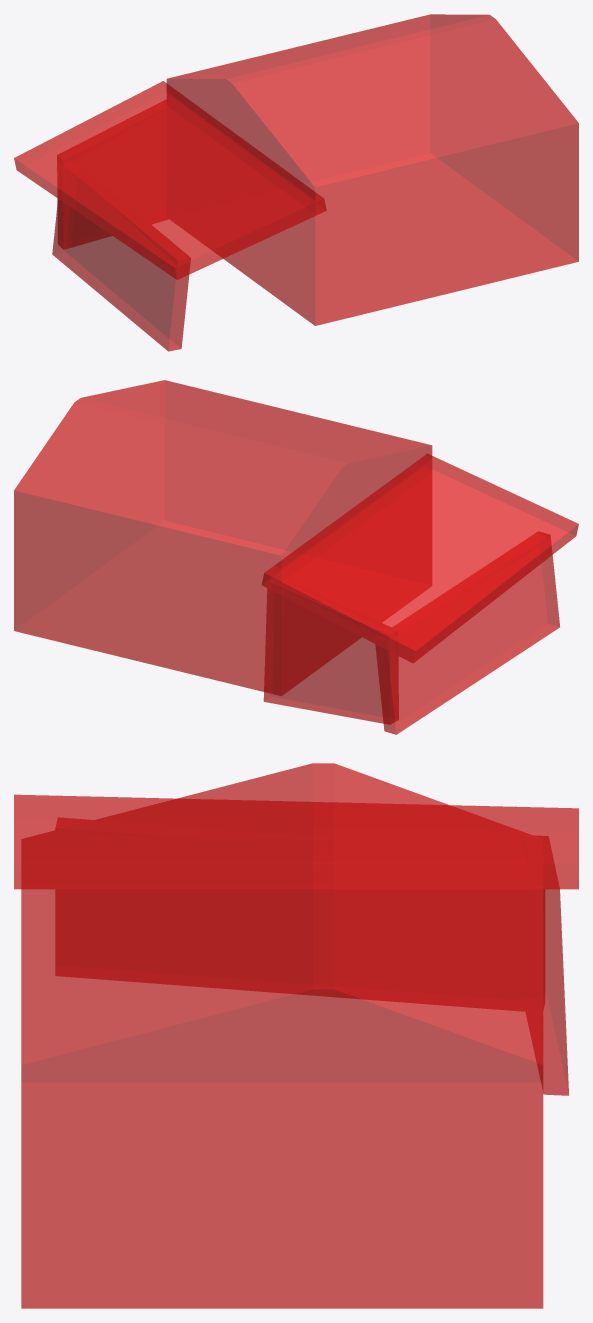
File: SM_Bld_Shanty_Preset_06_Collision.fbx
The picture shows the model from 3 angles, top to bottom: view 1: azimuth 30°, elevation 25°; view 2: azimuth 150°, elevation 25°; view 3: azimuth 270°, elevation 25°; orthographic projection. The views are drawn at different scales.
Parts seen in each view (by area): view 1: SM_Bld_Shanty_Preset_06_Collision; view 2: SM_Bld_Shanty_Preset_06_Collision; view 3: SM_Bld_Shanty_Preset_06_Collision.
Part boxes in pixels (left/top/right/bottom): SM_Bld_Shanty_Preset_06_Collision: left=14, top=14, right=578, bottom=351; SM_Bld_Shanty_Preset_06_Collision: left=14, top=380, right=578, bottom=734; SM_Bld_Shanty_Preset_06_Collision: left=14, top=763, right=578, bottom=1308.
Size of the model in its own units: 819 by 369 by 562.
